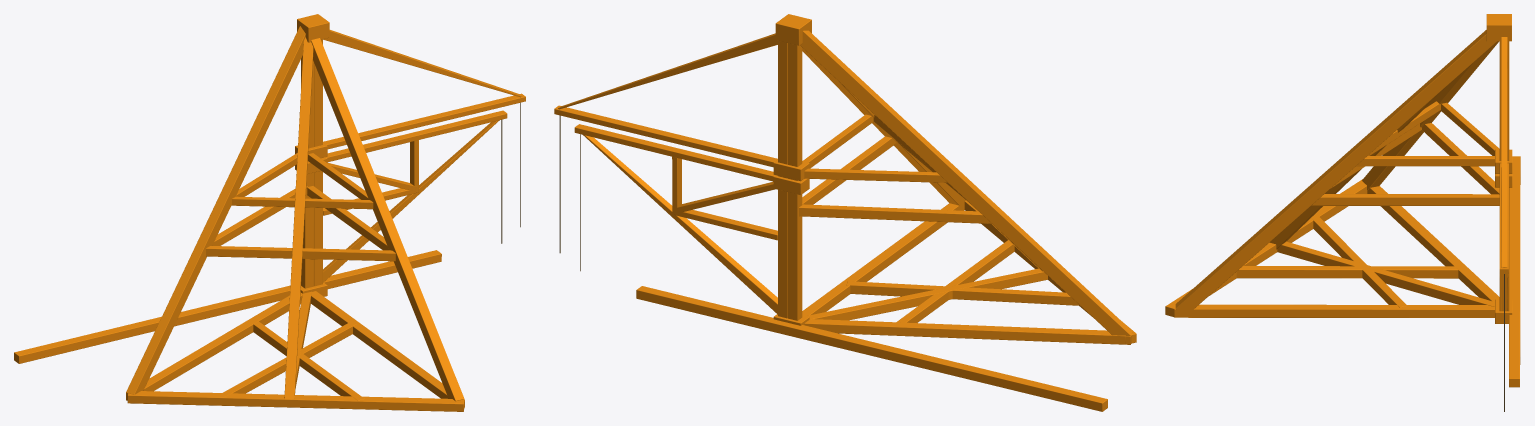
File: DaV_excavator.obj
3 renders of one model, left to right at view 1: azimuth 30°, elevation 25°; view 2: azimuth 150°, elevation 25°; view 3: azimuth 270°, elevation 25°, orthographic. The views are drawn at different scales.
Parts seen in each view (by area): view 1: Excavator_main_Mesh, Cloth_main_Mesh.001; view 2: Excavator_main_Mesh, Cloth_main_Mesh.001; view 3: Excavator_main_Mesh, Cloth_main_Mesh.001.
Part boxes in pixels (<box>): Excavator_main_Mesh: <box>14,26,525,411</box>; Cloth_main_Mesh.001: <box>295,14,329,296</box>; Excavator_main_Mesh: <box>554,30,1136,411</box>; Cloth_main_Mesh.001: <box>773,14,811,325</box>; Excavator_main_Mesh: <box>1165,30,1520,387</box>; Cloth_main_Mesh.001: <box>1486,14,1512,323</box>.
Bounding box in the file's own units: 4.5 × 2.37 × 2.56.
